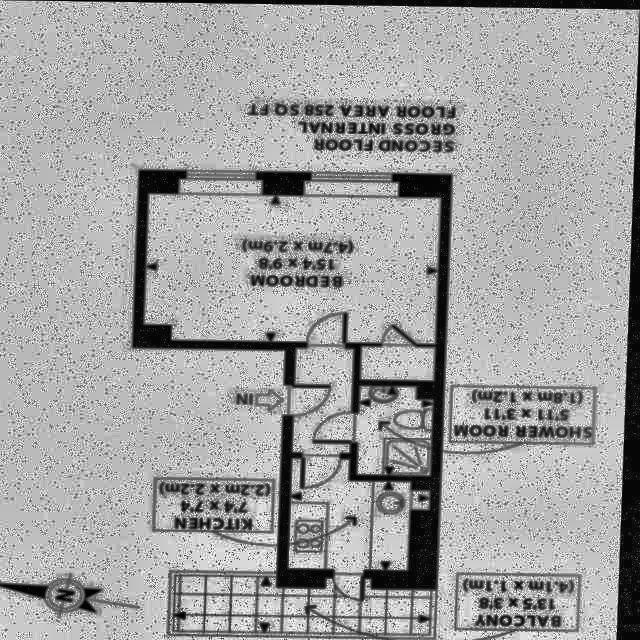room: (144, 173, 443, 381), (292, 451, 434, 580), (285, 346, 356, 453), (353, 385, 437, 475)
